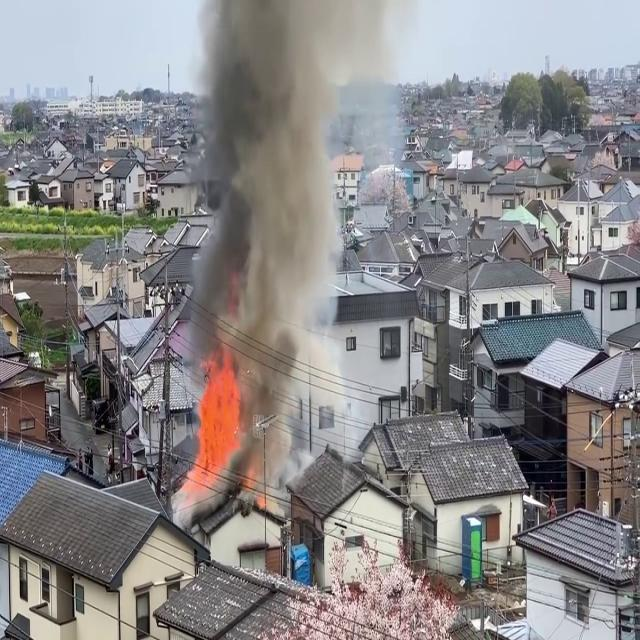Fire: (179, 347, 245, 502)
Smoke: (176, 0, 349, 484)
